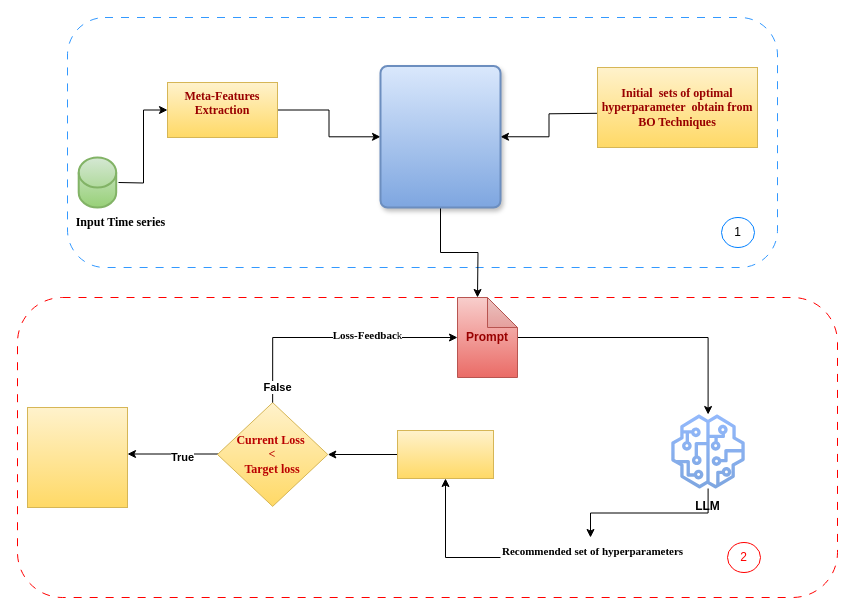
Some shapes in this 855 by 615 pixel diagram are drawn without their labels. Each missing label, with the centre of its shape:
"Meta-knowledge" belongs at point 441,137.
"Robust, interpretable Candidate Model" belongs at point 77,457.
"Train/Evaluate Candidate Model" belongs at point 445,454.
